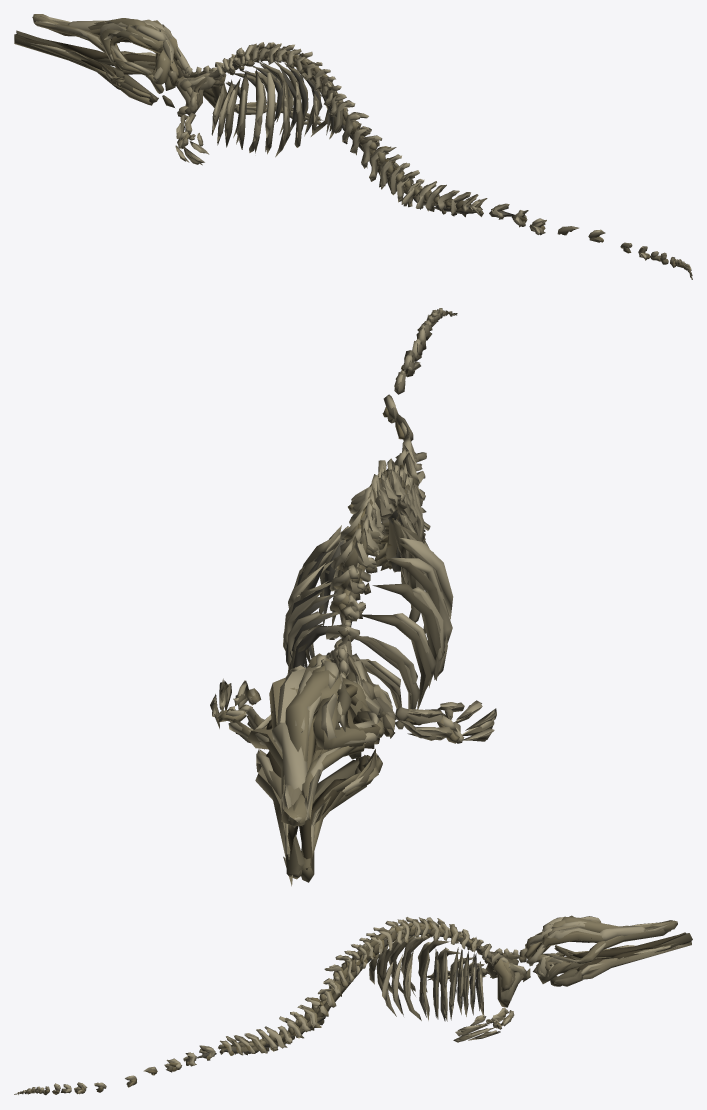
File: whaleSkeleton_9_17_2022.fbx
3 renders of one model, top to bottom at view 1: azimuth 30°, elevation 25°; view 2: azimuth 150°, elevation 25°; view 3: azimuth 270°, elevation 25°, orthographic. The views are drawn at different scales.
Parts seen in each view (by area): view 1: whaleSkeleton_LOD0; view 2: whaleSkeleton_LOD0; view 3: whaleSkeleton_LOD0.
Part boxes in pixels (box(x1,y1,x2,y2)): whaleSkeleton_LOD0: box(14, 14, 692, 279); whaleSkeleton_LOD0: box(210, 308, 496, 886); whaleSkeleton_LOD0: box(14, 915, 692, 1095).
Size of what is drawn, in the model's own units: 314 by 122 by 689.
